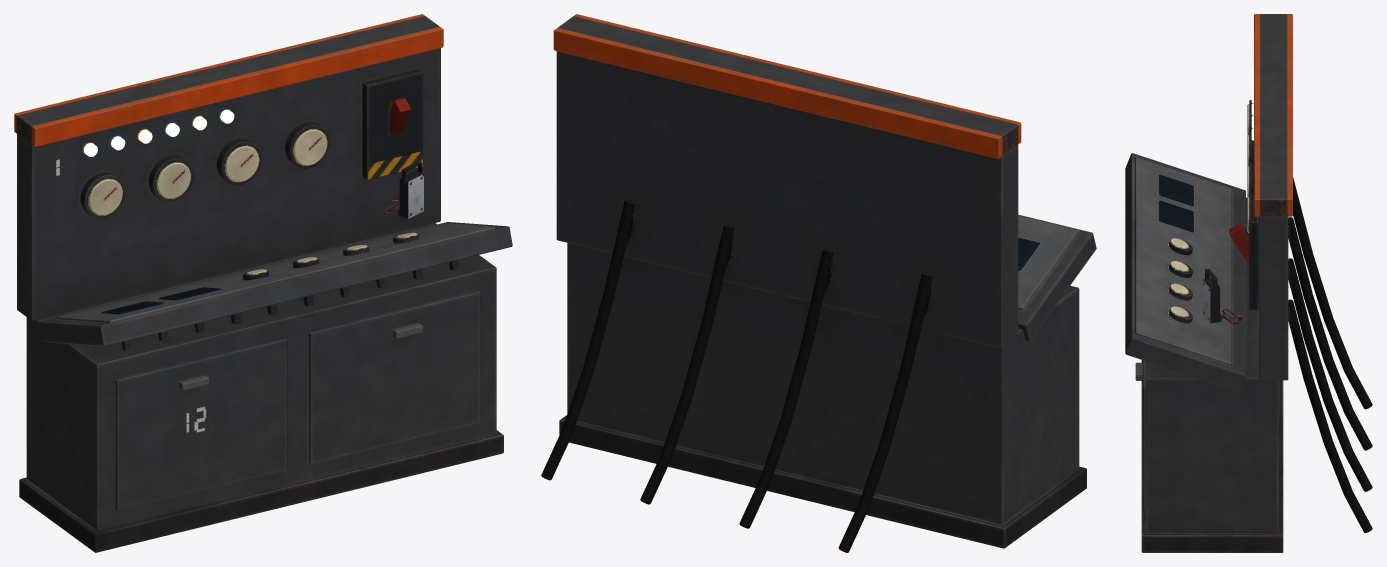
Rendered from control_console.glb.
3 renders of one model, left to right at view 1: azimuth 30°, elevation 25°; view 2: azimuth 150°, elevation 25°; view 3: azimuth 270°, elevation 25°, orthographic. The views are drawn at different scales.
Visible parts, largest first — view 1: control_console; view 2: control_console; view 3: control_console.
Boxes of the visible parts, x1=… form: control_console: x1=14, y1=14, x2=512, y2=552; control_console: x1=541, y1=14, x2=1096, y2=552; control_console: x1=1125, y1=14, x2=1372, y2=552.
Bounding box in the file's own units: 1.8 × 1.6 × 1.01.
2 materials, 2 textured.
